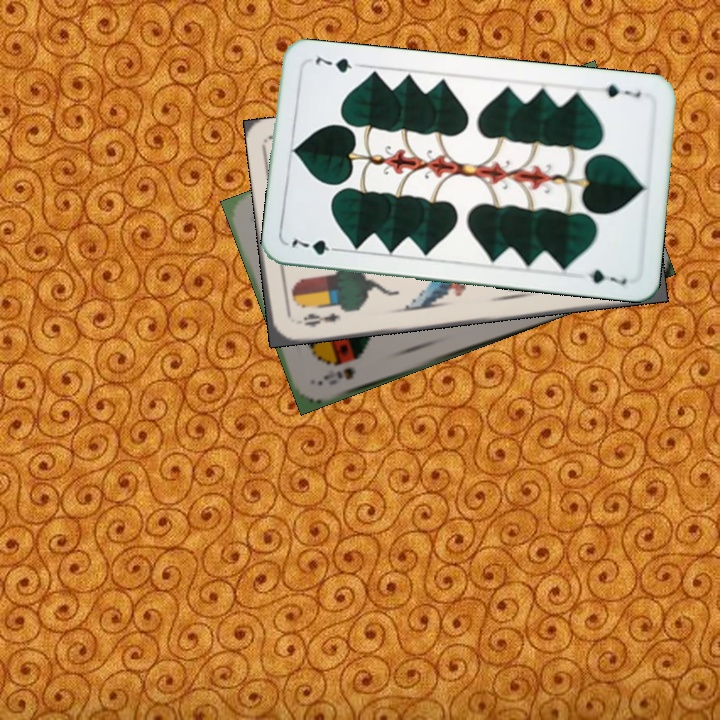EO: (299, 308, 343, 330)
G7: (287, 232, 345, 258), (601, 80, 644, 100)
SO: (319, 363, 358, 383)
